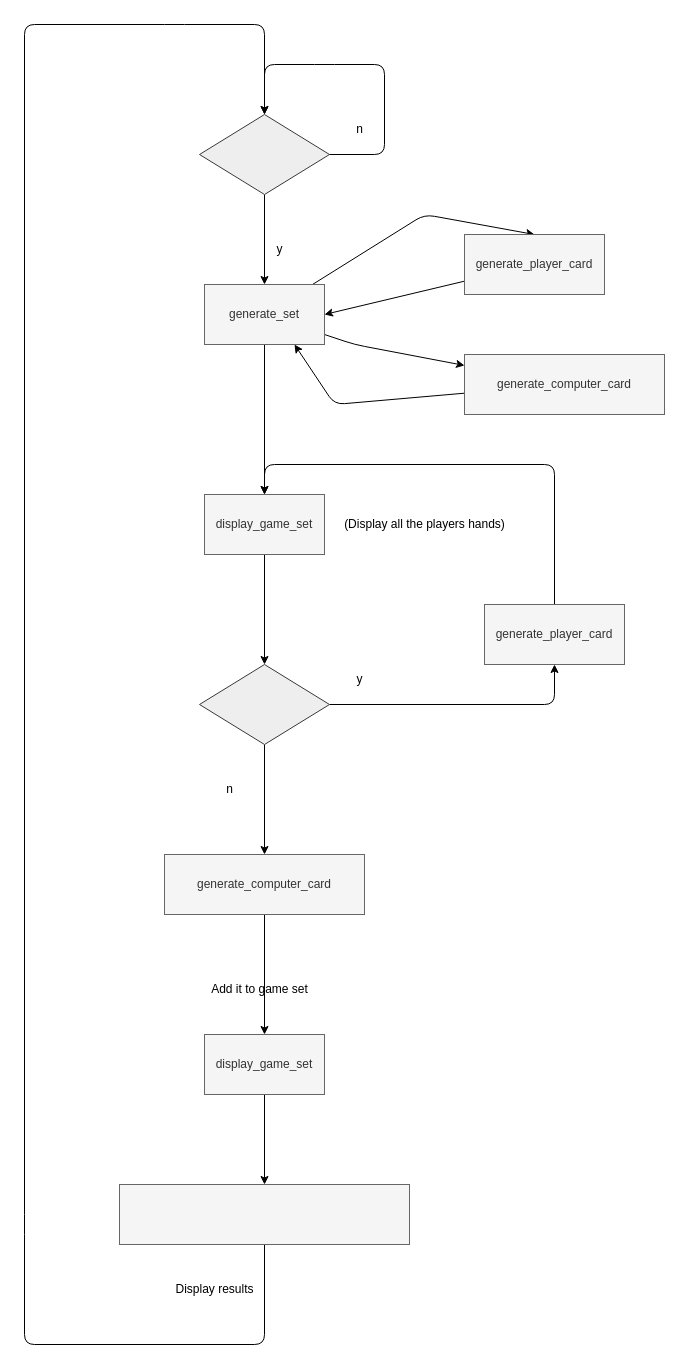
The diagram is 682 pixels wide and 1370 high, and some of its shapes have lost their labels. The shapes that lost their labels are listed below. From the top down, each one's box as (x1, y1, x2, y2) in pixels, then its label:
(198, 114, 330, 194): play a game of blackjack ?
(198, 664, 330, 744): get another card ?
(118, 1184, 410, 1244): search_winner_loser(player_cards, computer_cards)
